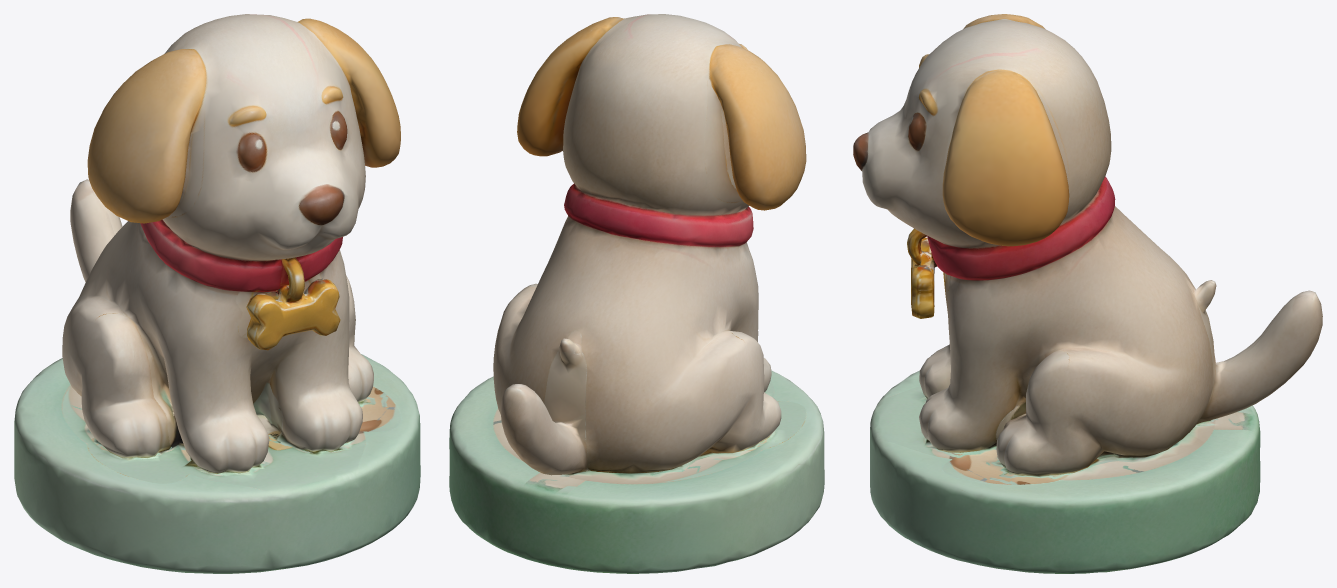
File: P_TownMascot_h95.fbx
3 views of the same model, side by side, from view 1: azimuth 30°, elevation 25°; view 2: azimuth 150°, elevation 25°; view 3: azimuth 270°, elevation 25° (orthographic). The views are drawn at different scales.
Visible parts, largest first — view 1: texture_mapping; view 2: texture_mapping; view 3: texture_mapping.
Part boxes in pixels (x1,y1,x2,y2): texture_mapping: [14, 14, 420, 573]; texture_mapping: [449, 14, 824, 573]; texture_mapping: [853, 14, 1322, 573].
Size of the model in its own units: 0.749 by 0.9172 by 1.
Materials: 1 (1 with a texture image).
